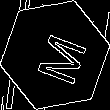M_W: (25, 24, 85, 86)
